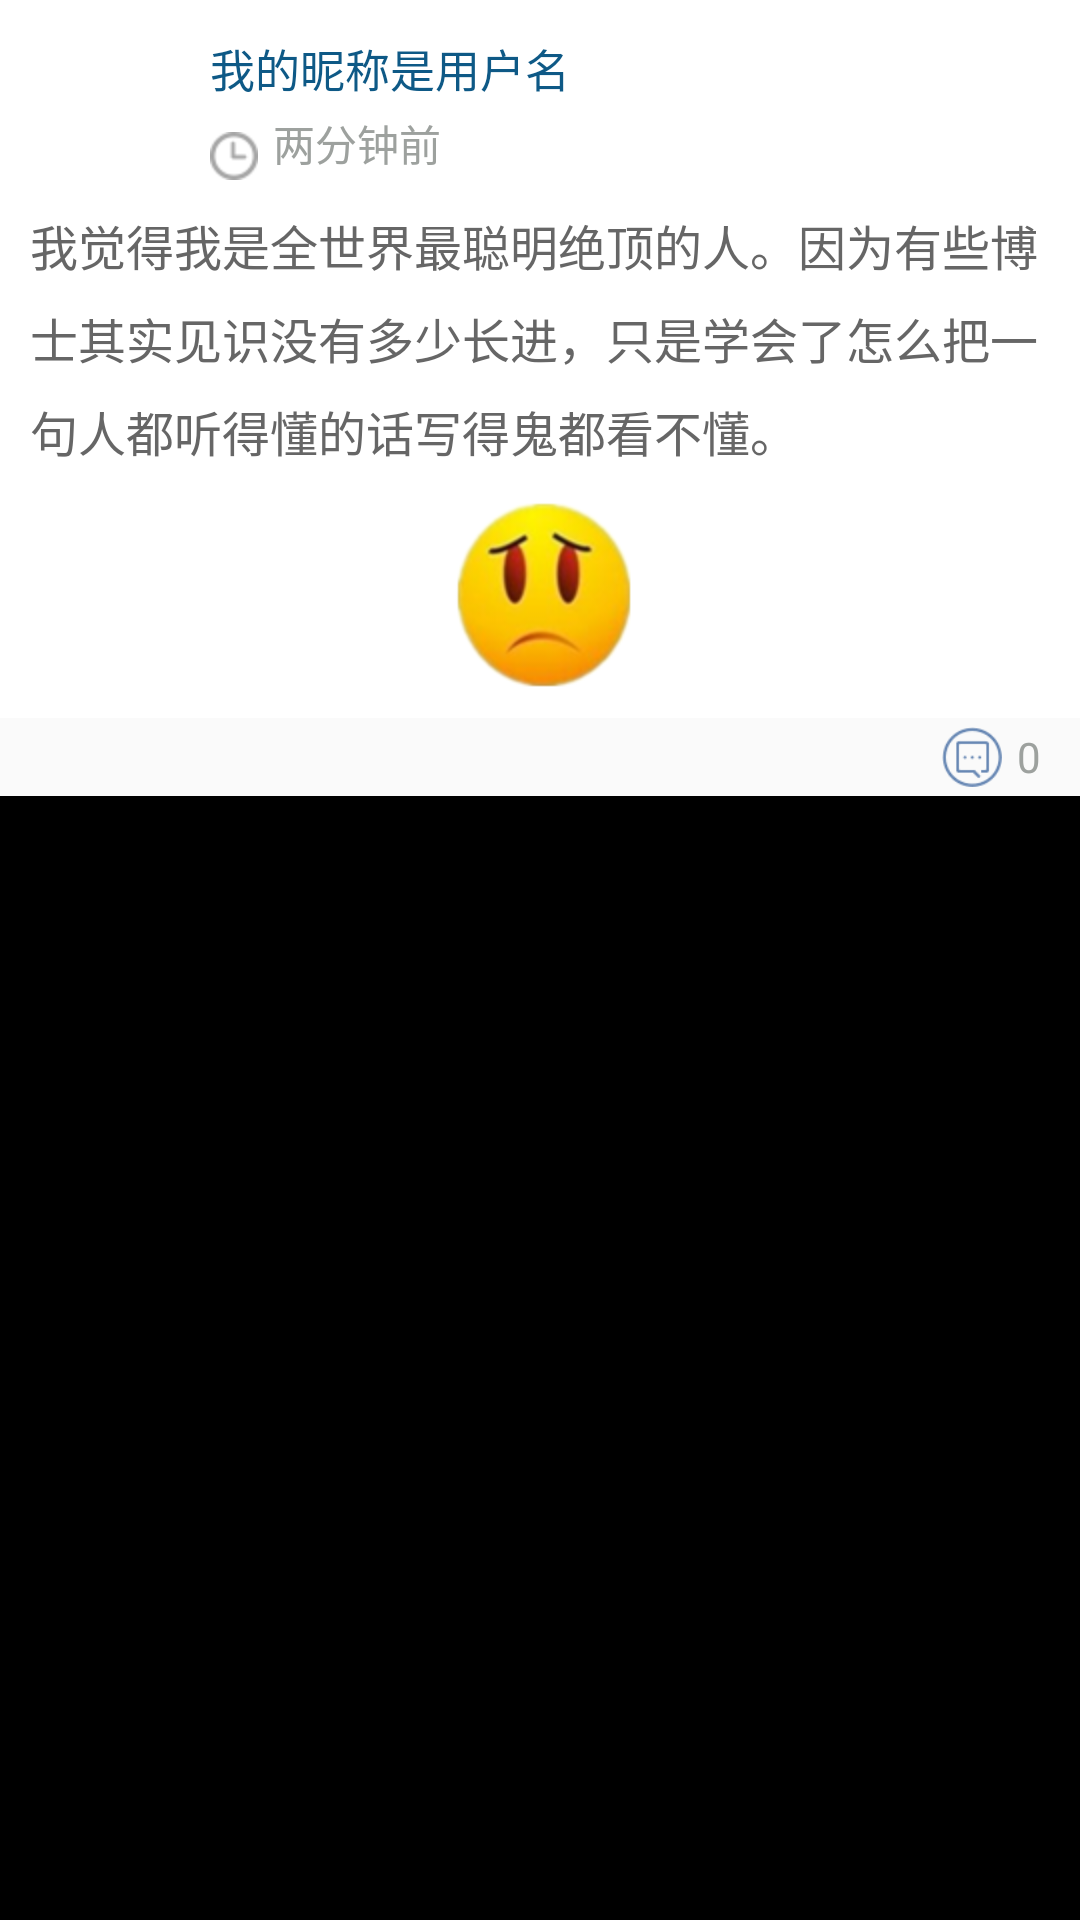

Icon bounding boxes for this 1080x1920 phone screenshot, format Rect(x1, y1, x2, y2):
share comment: Rect(942, 727, 1002, 787)
share date: Rect(210, 132, 258, 180)
